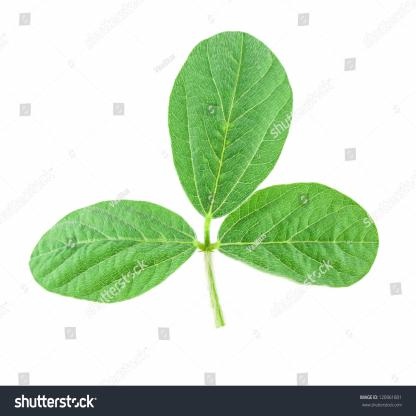Soybean leaf: (164, 25, 298, 220), (24, 193, 203, 307), (216, 181, 384, 291)
